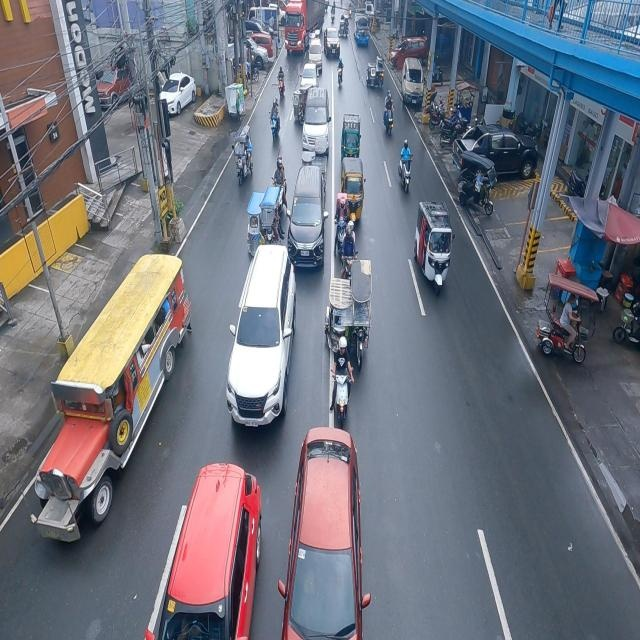Motorcycle: (329, 338, 355, 424), (399, 136, 413, 189), (269, 96, 281, 138), (384, 88, 394, 137), (335, 58, 348, 91), (278, 65, 288, 95)
Truck: (284, 0, 326, 56)
